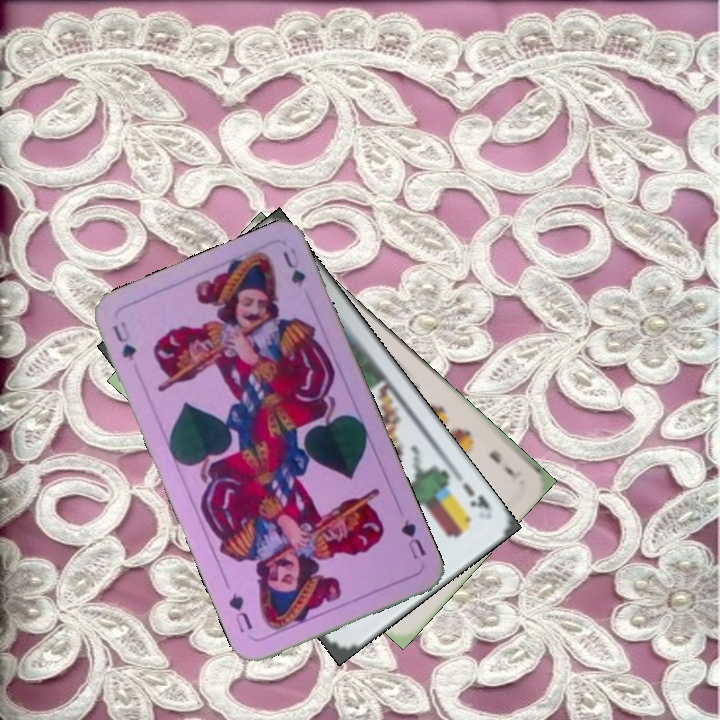E7: (484, 446, 524, 482)
EK: (458, 479, 495, 517)
GU: (396, 515, 429, 562), (108, 317, 139, 364)
